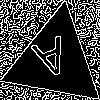A: (30, 35, 75, 90)
